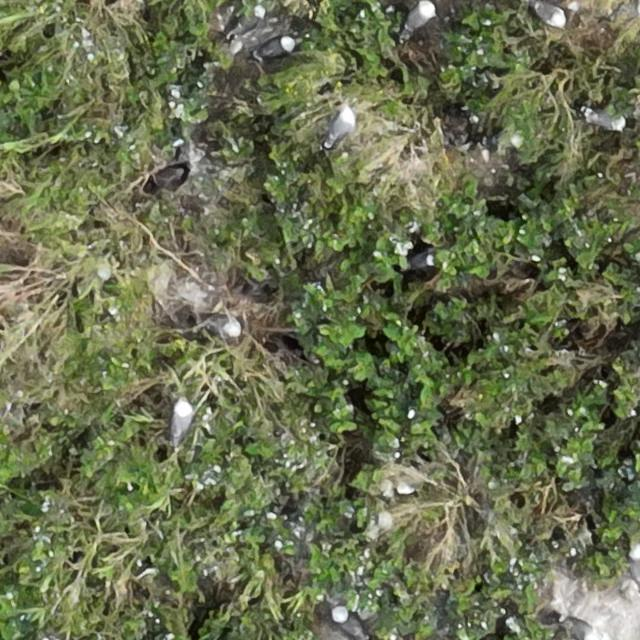umineko: (228, 5, 266, 37), (332, 606, 367, 637), (403, 2, 432, 34), (328, 109, 354, 144), (201, 315, 242, 336), (532, 3, 566, 26), (170, 401, 190, 438), (257, 38, 294, 58), (586, 111, 623, 130), (566, 619, 598, 640), (409, 250, 435, 267)
